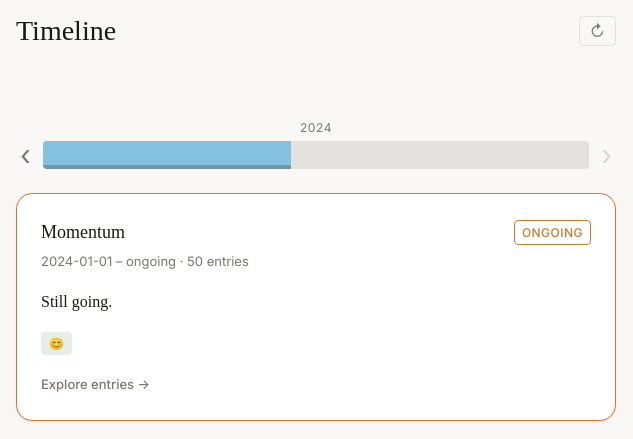
Scenario: PhasesPage › clicking a band updates the displayed phase card
expect the heading "Momentum" is shown: met, box left=41, top=218, right=125, bottom=247
Click the button named "Previous year".
click(25, 155)  # box left=16, top=141, right=35, bottom=169
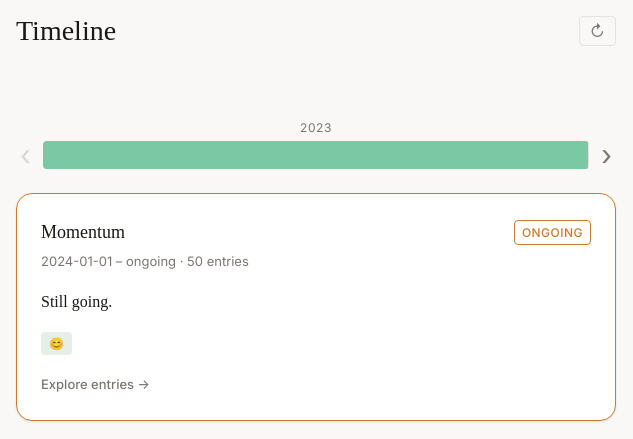
Click the button named "Early Days".
click(315, 155)  # box left=43, top=141, right=588, bottom=169
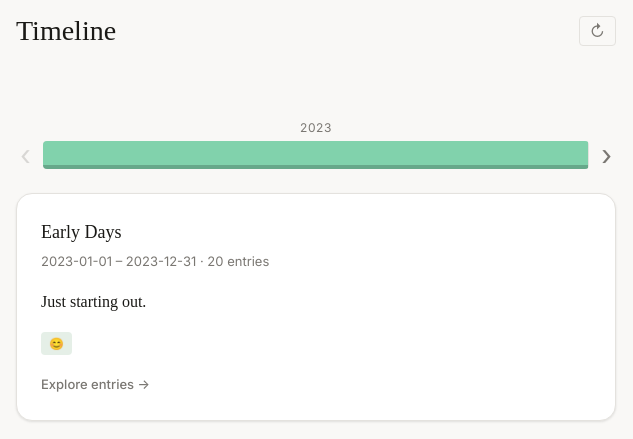
expect the text "Just starting out." is shown: met, box left=41, top=293, right=146, bottom=310
